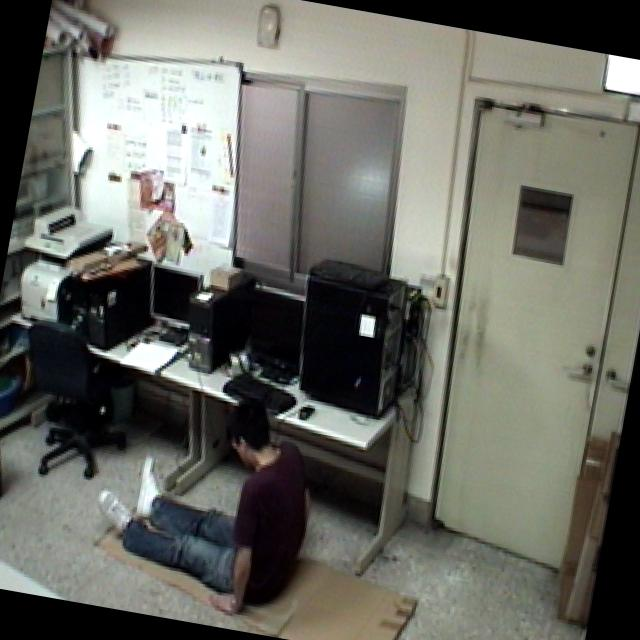sit: (73, 360, 336, 631)
